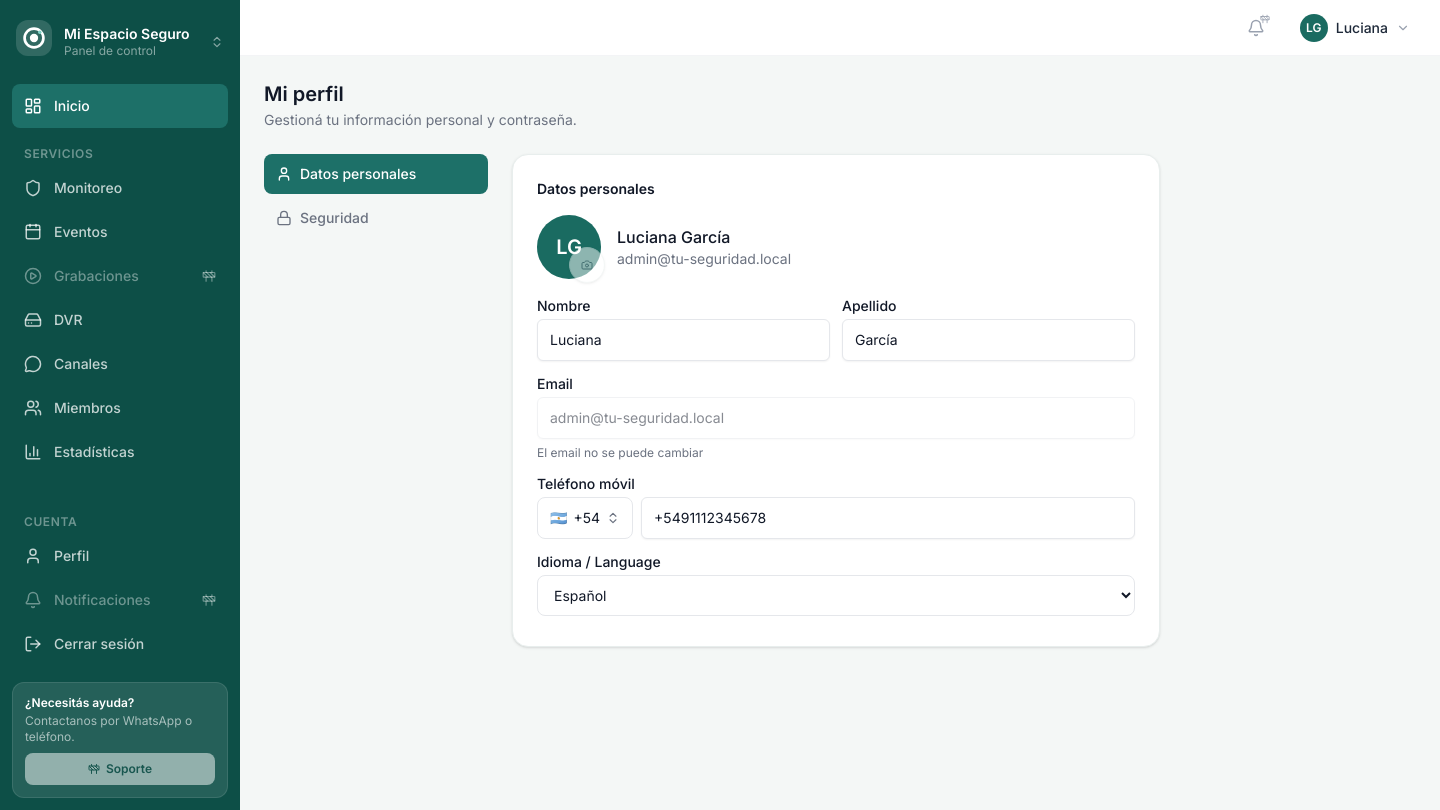
Test case: ProfilePage › autosaves only the changed field after the debounce
Replace the text in the field labelled "Nombre" with "Ada": (684, 340) [537,319,830,361]
Wait 900 ms
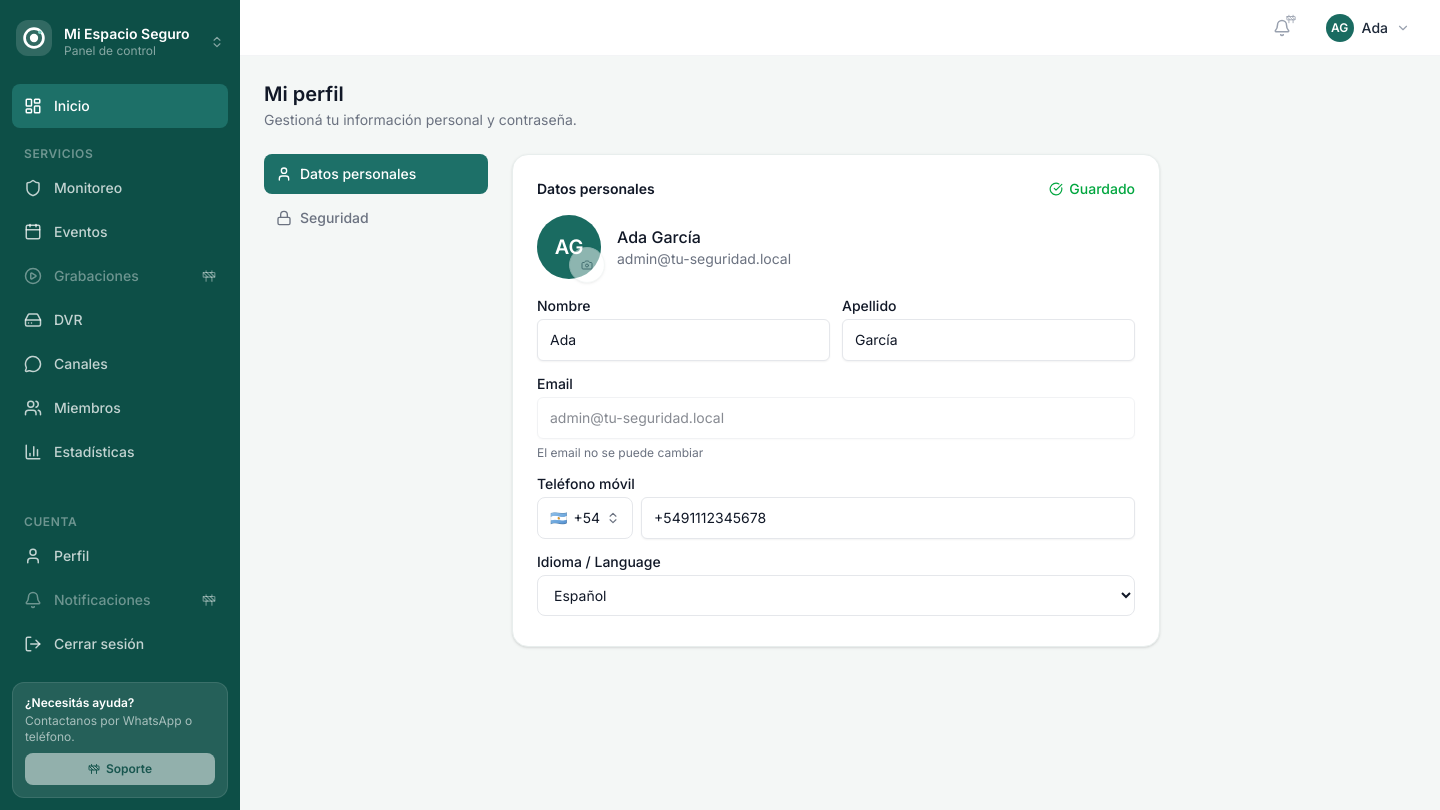
Now the text "Ada" is shown, box [1362,18,1388,38]
Now the text "Guardado" is shown, box [1049,179,1135,199]
